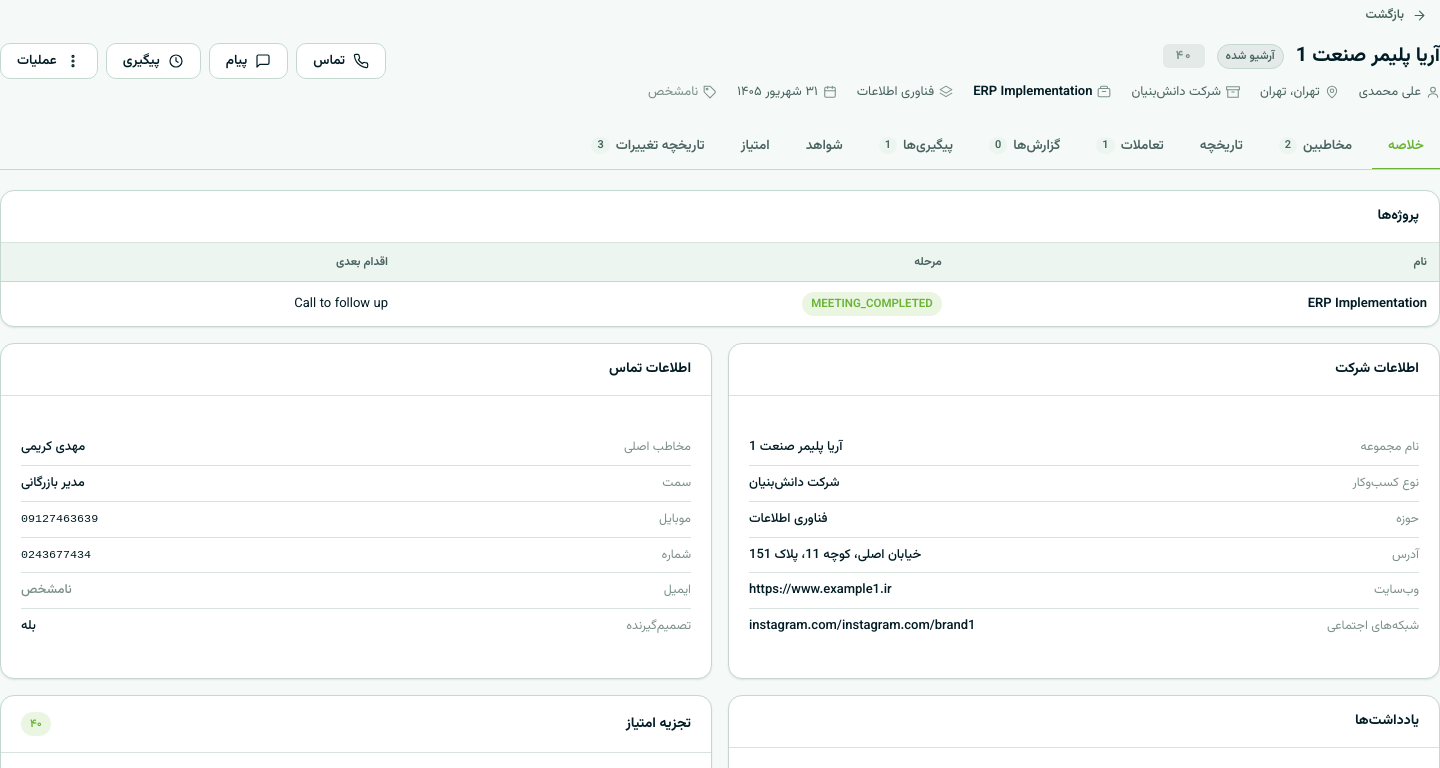
lead detail › shows the score breakdown tab with dimensions
Click the tab "امتیاز": click(755, 146) [725,123,786,170]
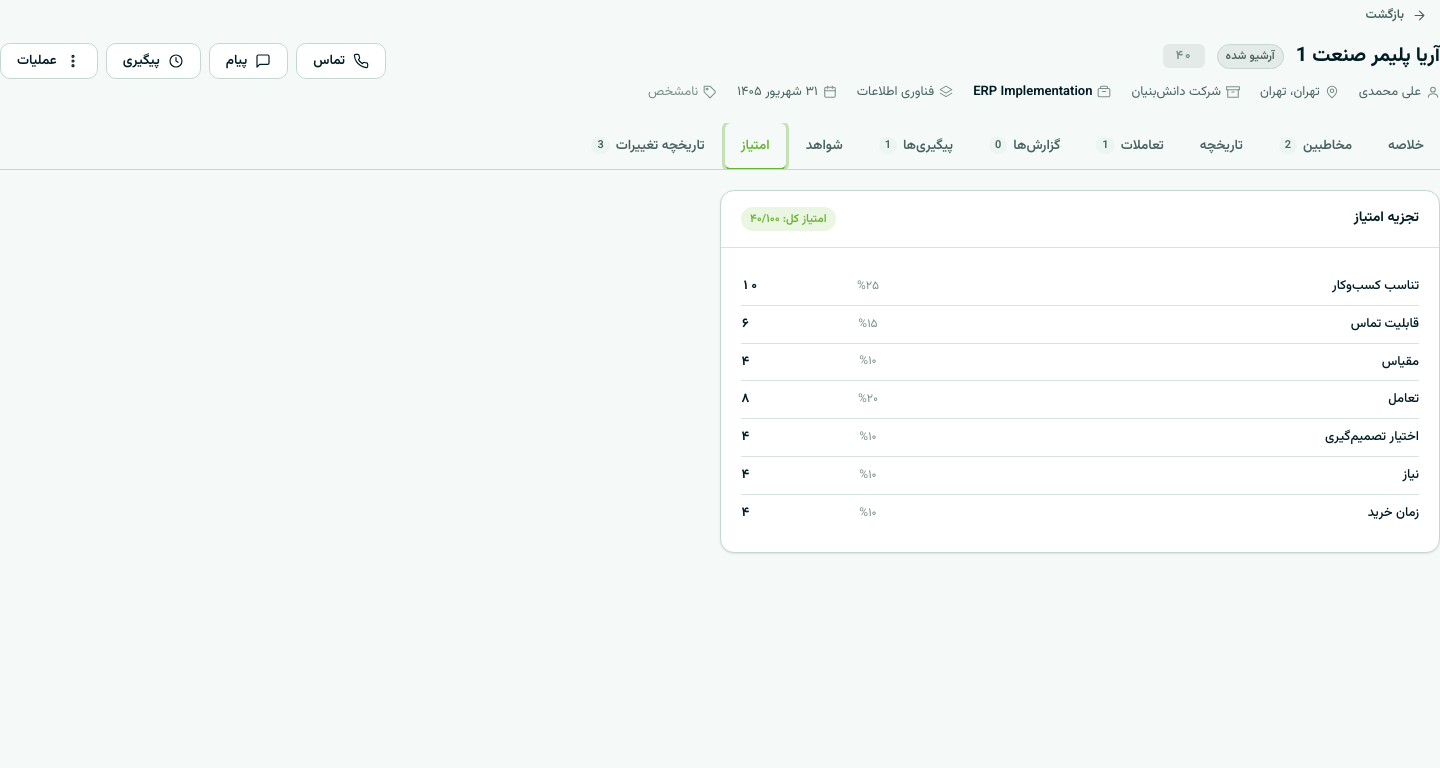
Expected: the text "تناسب کسب‌وکار" is shown, [1332,276,1419,296]
Expected: the text "امتیاز کل: ۴۰/۱۰۰" is shown, [741,207,836,231]
